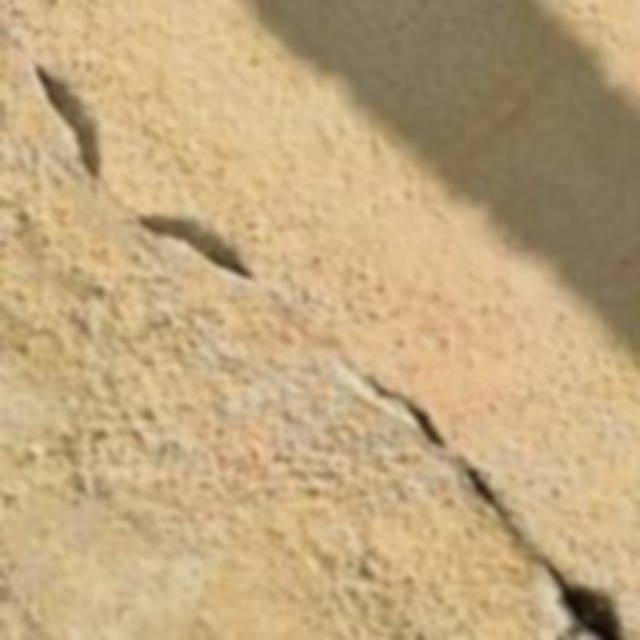SurfaceCrack: (298, 328, 616, 640), (14, 18, 260, 304)
